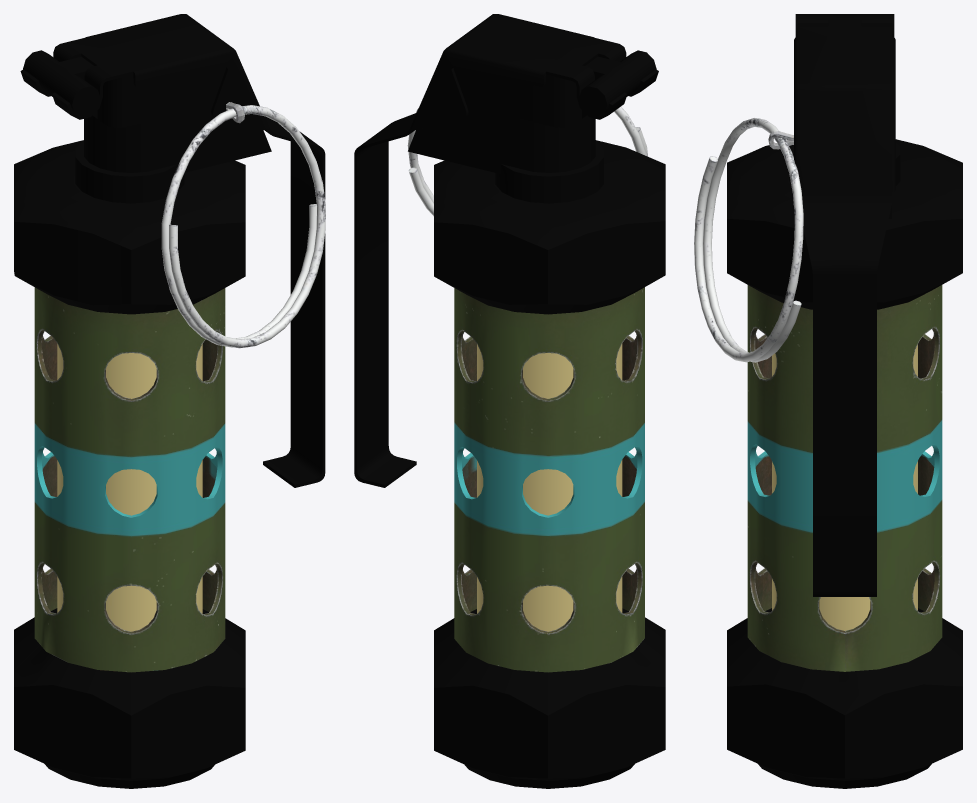
The model's file is flashbang.glb.
The picture shows the model from 3 angles, left to right: view 1: azimuth 30°, elevation 25°; view 2: azimuth 150°, elevation 25°; view 3: azimuth 270°, elevation 25°; orthographic projection.
Parts seen in each view (by area): view 1: Cylinder002; view 2: Cylinder002; view 3: Cylinder002.
Part boxes in pixels (<box>): Cylinder002: <box>14,14,325,788</box>; Cylinder002: <box>354,14,665,788</box>; Cylinder002: <box>694,14,962,788</box>.
Size of the model in its own units: 5.73 by 12.96 by 4.49.
Materials: 1 (1 with a texture image).
